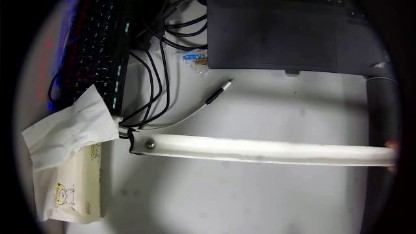gangzhu: (143, 136, 155, 151)
